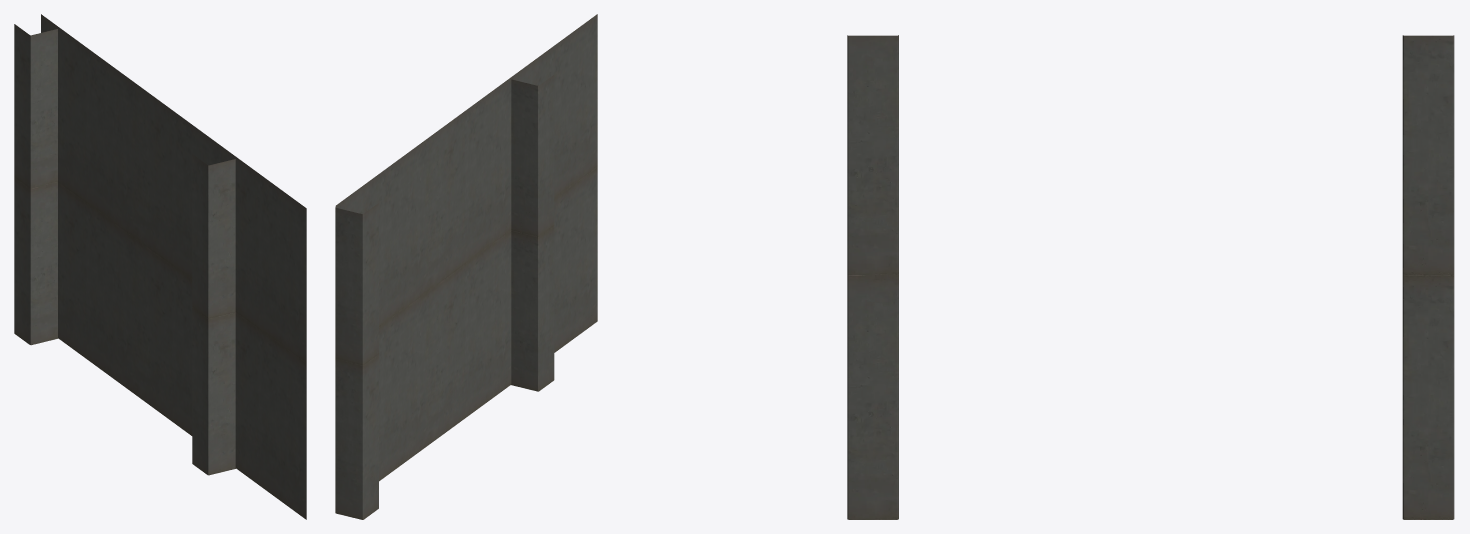
Rendered from walltestprefab.glb.
3 views of the same model, side by side, from view 1: azimuth 30°, elevation 25°; view 2: azimuth 150°, elevation 25°; view 3: azimuth 270°, elevation 25° (orthographic). The views are drawn at different scales.
Visible parts, largest first — view 1: walltest__3_, pillartest__2_, pillartest__3_; view 2: walltest__3_, pillartest__2_, pillartest__3_; view 3: pillartest__3_, pillartest__2_.
Part boxes in pixels (bbox=[...]): walltest__3_: bbox=[41, 14, 306, 519]; pillartest__2_: bbox=[192, 154, 235, 475]; pillartest__3_: bbox=[14, 24, 57, 345]; walltest__3_: bbox=[335, 14, 597, 512]; pillartest__2_: bbox=[511, 75, 554, 391]; pillartest__3_: bbox=[335, 203, 378, 519]; pillartest__3_: bbox=[1402, 35, 1454, 519]; pillartest__2_: bbox=[847, 35, 898, 519].
Size of the model in its own units: 0.7686 by 8.02 by 12.35.
1 material, 1 textured.
